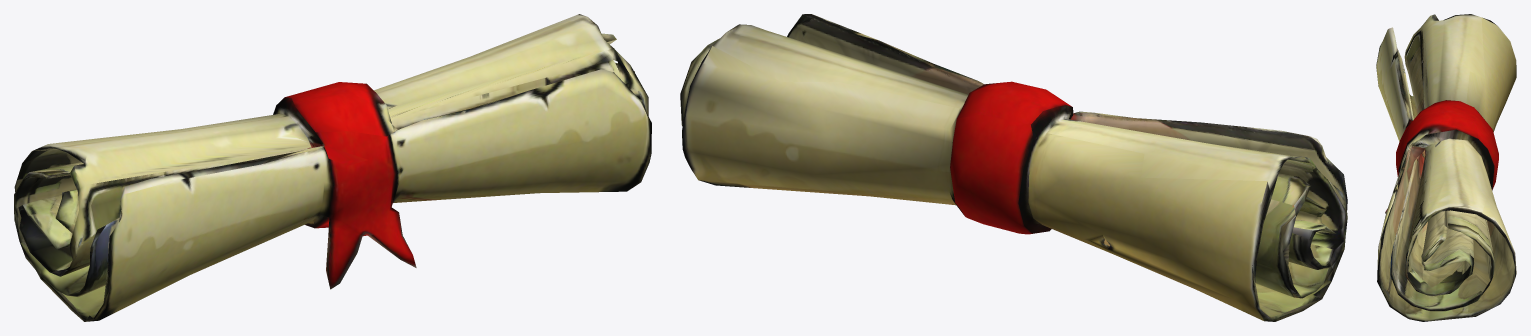
Rendered from Scroll_Tied_With_RedRibbon.glb.
3 views of the same model, side by side, from view 1: azimuth 30°, elevation 25°; view 2: azimuth 150°, elevation 25°; view 3: azimuth 270°, elevation 25° (orthographic). The views are drawn at different scales.
Visible parts, largest first — view 1: Mesh_0; view 2: Mesh_0; view 3: Mesh_0.
Boxes of the visible parts, x1=… form: Mesh_0: x1=14, y1=14, x2=651, y2=321; Mesh_0: x1=680, y1=14, x2=1347, y2=321; Mesh_0: x1=1376, y1=14, x2=1516, y2=321.
Size of the model in its own units: 1.98 by 0.5017 by 0.5288.
1 material, 1 textured.
